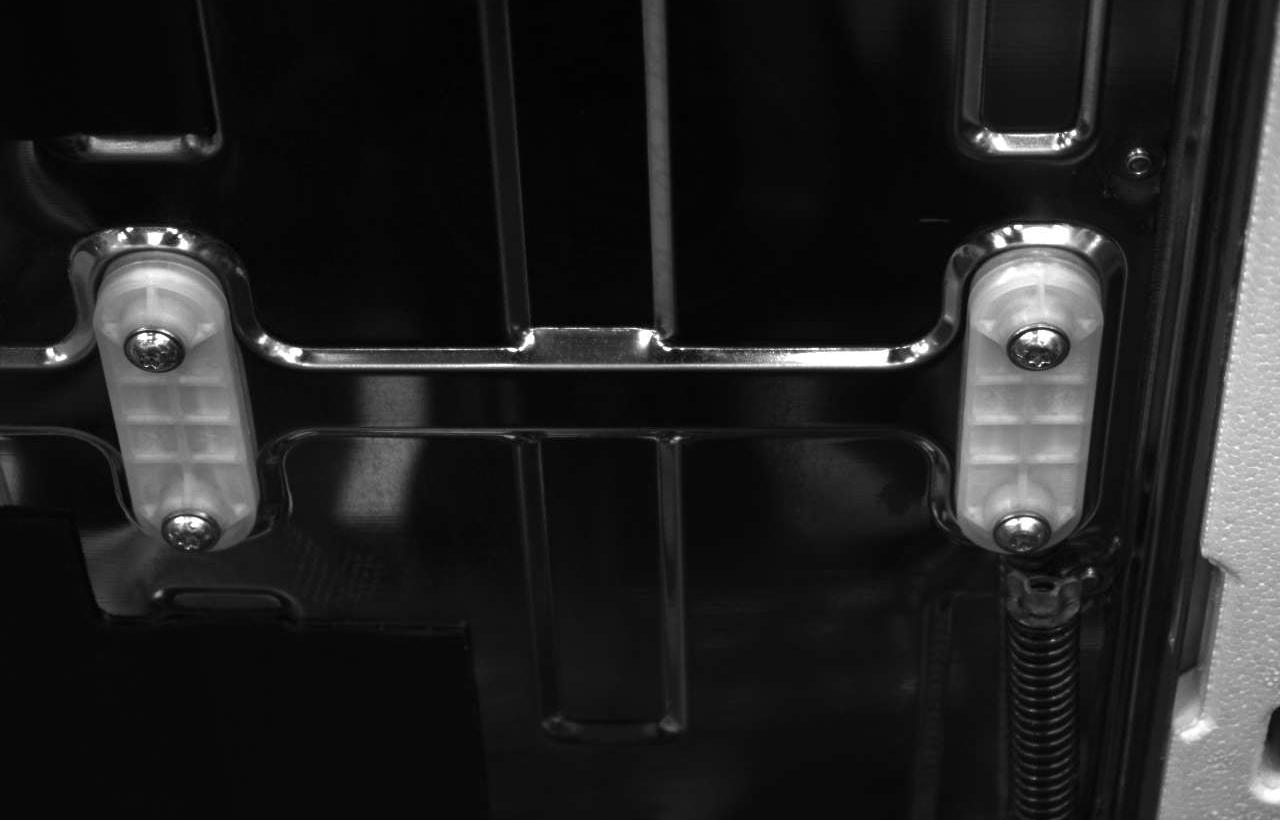vida-ok: (116, 314, 187, 381), (1004, 312, 1071, 379), (157, 498, 223, 557), (990, 501, 1056, 559)
